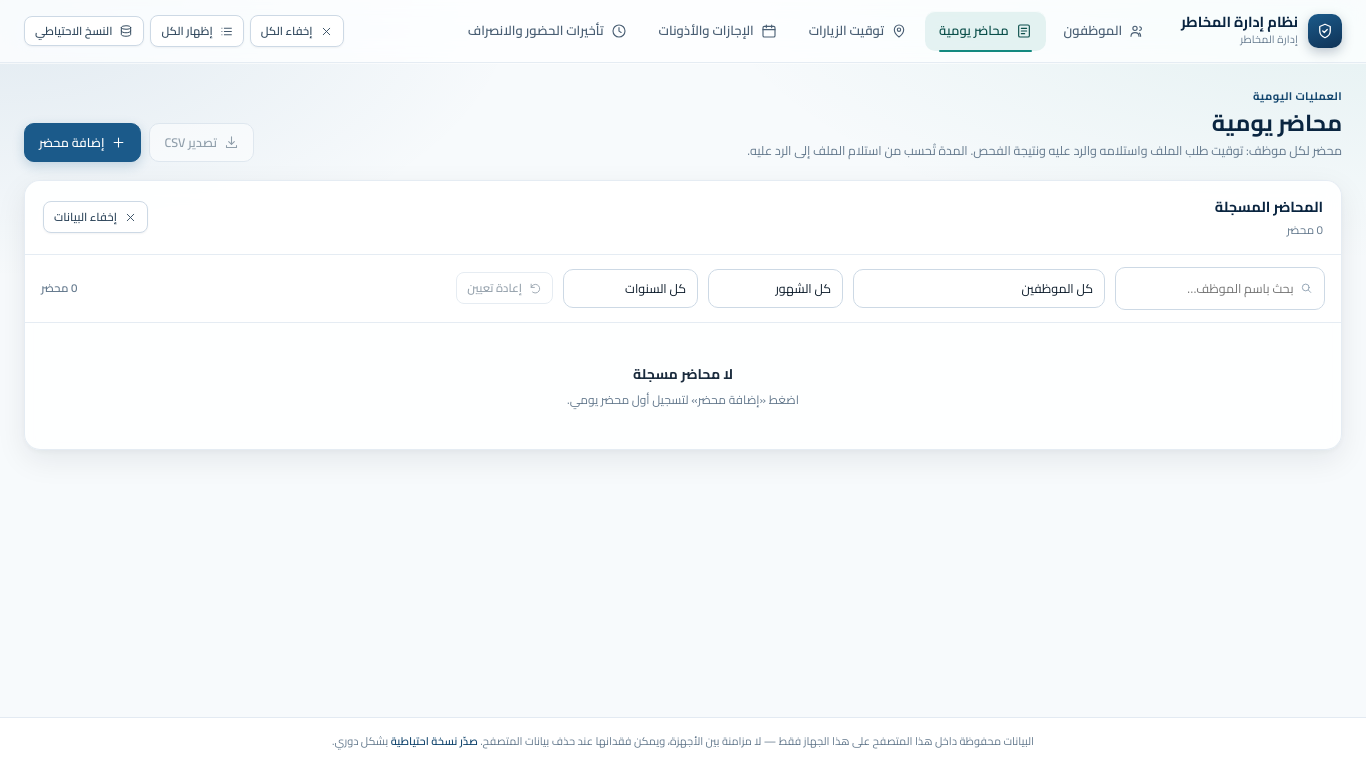
Scenario: قائمة اختيار الموظف › تعرض اسم الموظف كاملًا في «إضافة محضر»
Click the button "إضافة محضر".
click(83, 142)  # box [24,123,141,162]
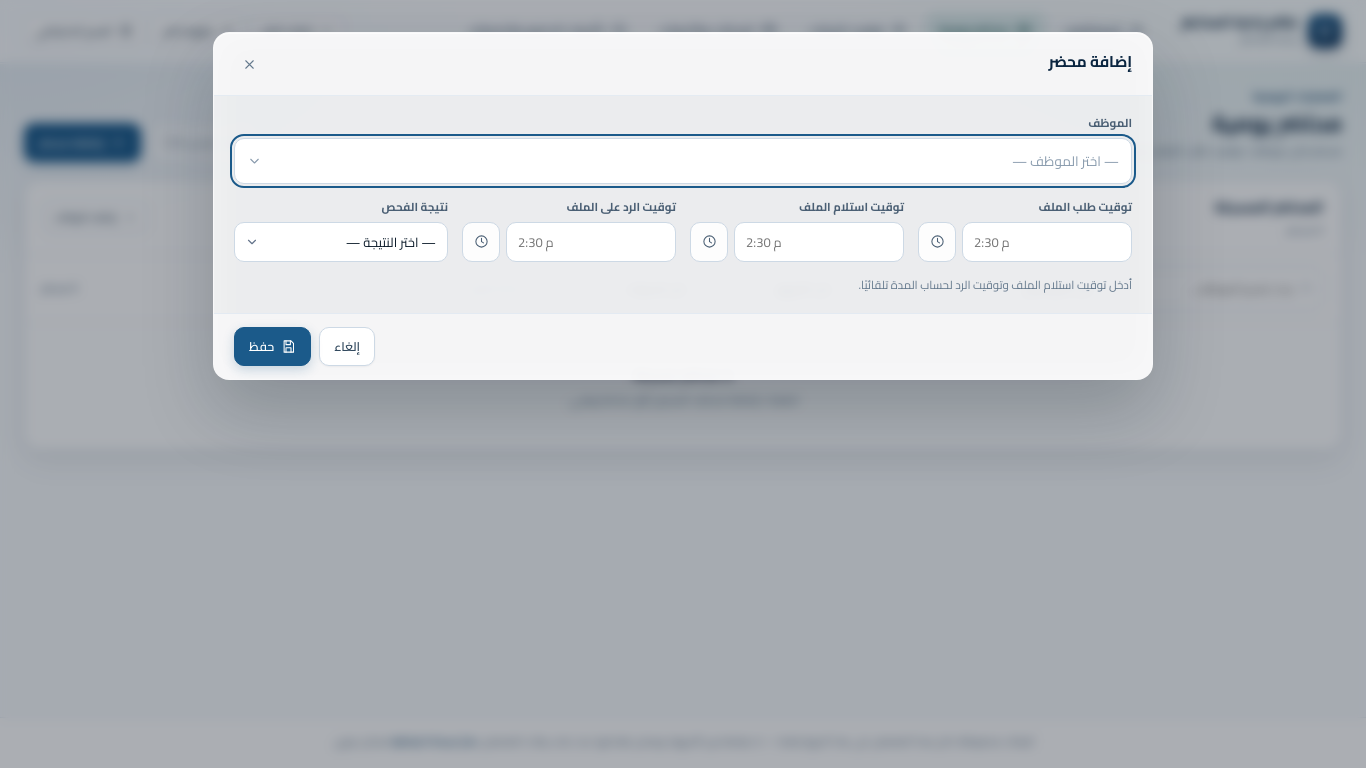
Click the dropdown with id "min-employee".
click(1065, 161)  # box [234,138,1132,184]
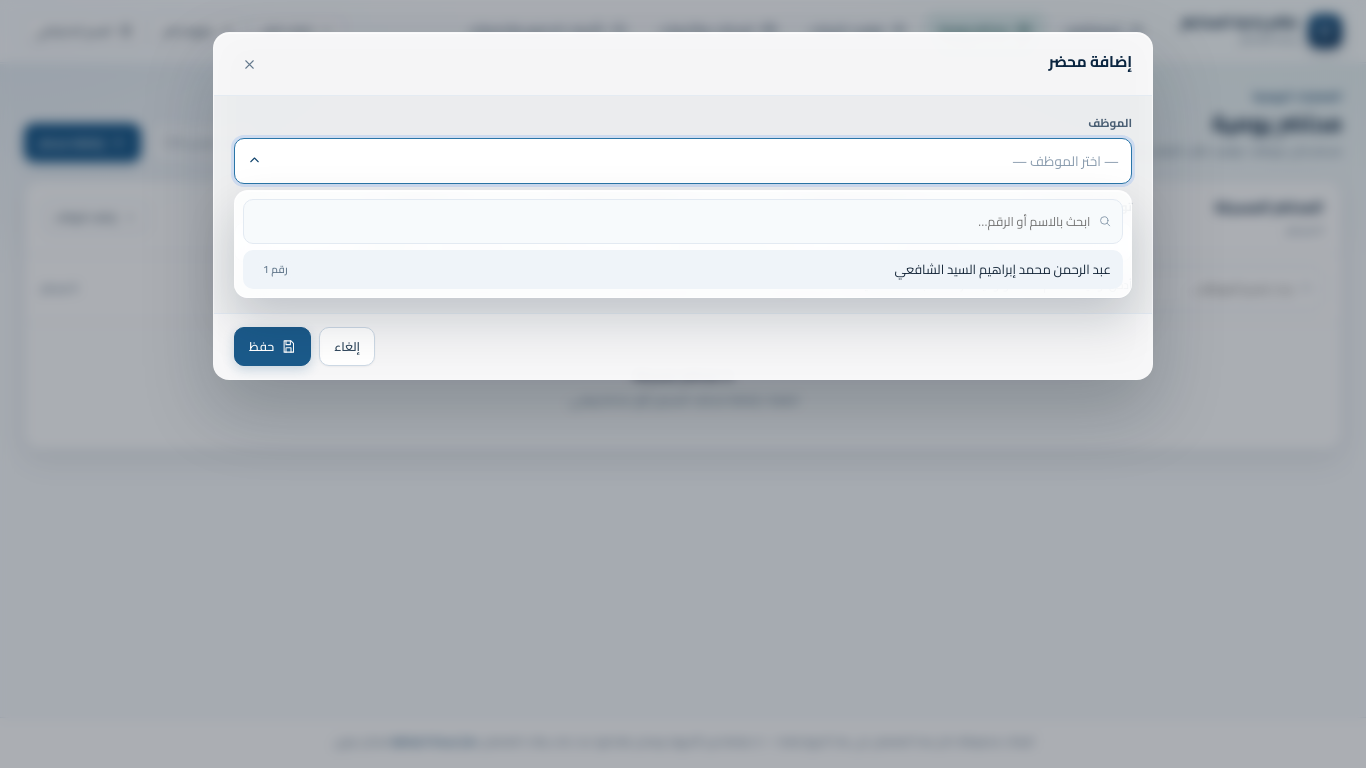
Click the option "عبد الرحمن محمد إبراهيم السيد الشافعي رقم 1".
click(1003, 269)  # box [243,250,1123,290]
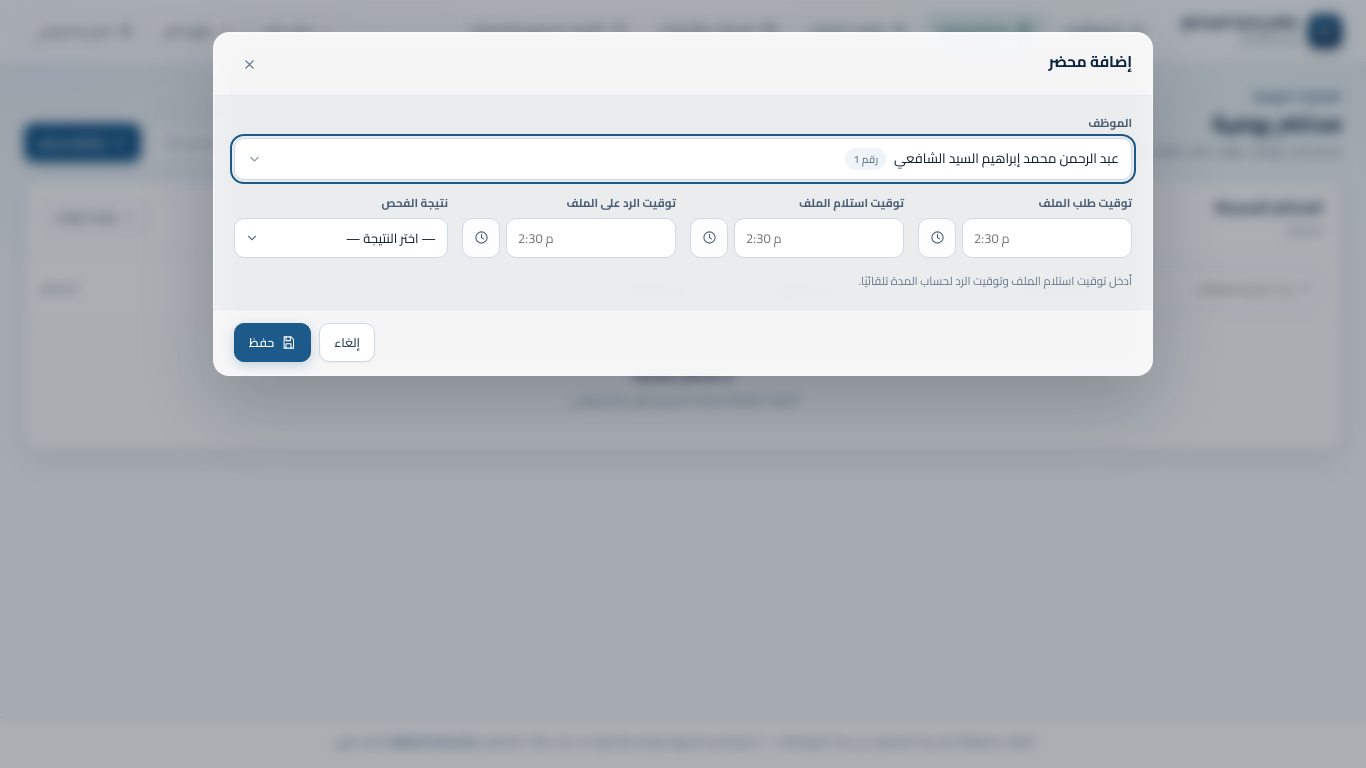
Check: the element with id "min-employee" does not show "…"
Check: the dropdown with id "min-employee" shows "عبد الرحمن محمد إبراهيم السيد الشافعي", box [234,138,1132,180]
